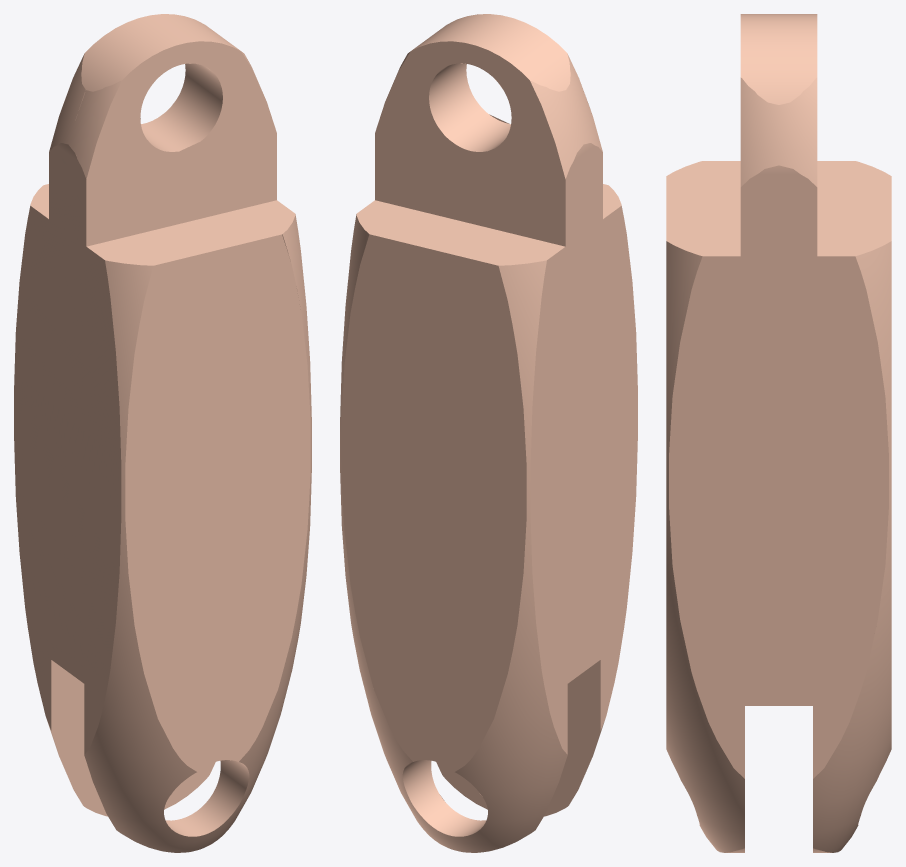
The model's file is phalange4x1.min.glb.
3 renders of one model, left to right at view 1: azimuth 30°, elevation 25°; view 2: azimuth 150°, elevation 25°; view 3: azimuth 270°, elevation 25°, orthographic. The views are drawn at different scales.
Bounding box in the file's own units: 1 × 4 × 1.
